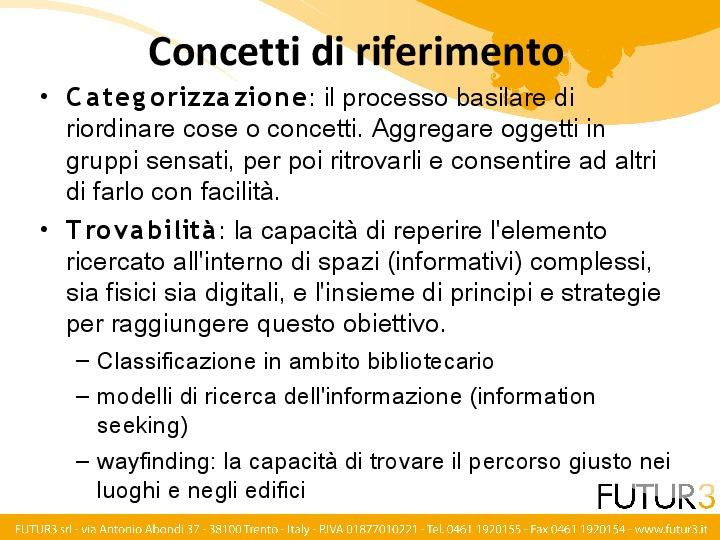paragraph: (25, 82, 684, 512)
subtitle: (66, 78, 311, 116), (62, 214, 226, 247)
title: (142, 23, 571, 77)
